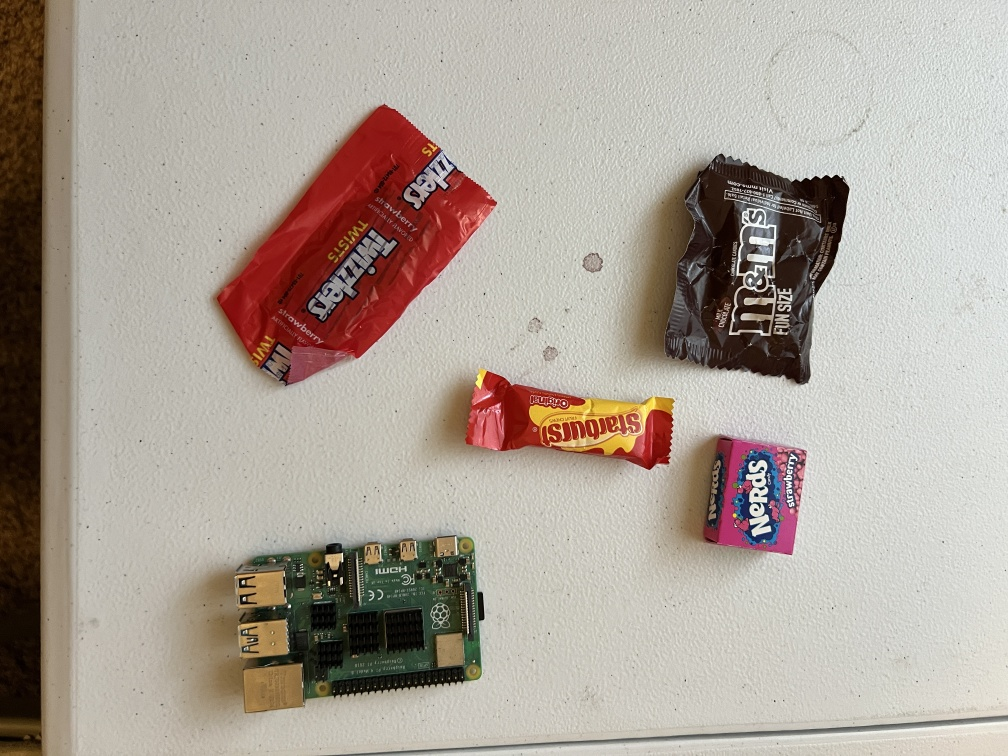MMs_peanut: (661, 133, 831, 385)
nerds: (706, 419, 817, 567)
starbust: (456, 360, 683, 483)
twizzlers: (155, 64, 527, 373)
